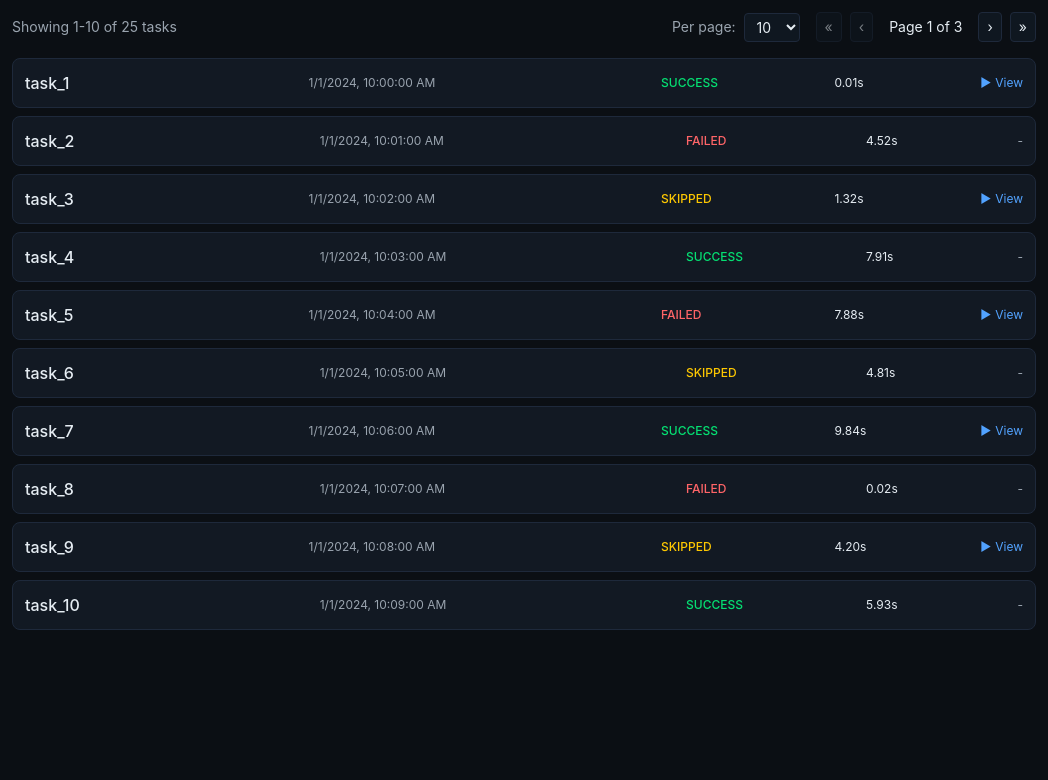
Test: ServiceTasksTable › Bug #75: Pagination functionality › navigates to next page
Note: Click next page button
What coordinates should you click on to do the following:
click the button titled "Next page"
I would click on:
 (990, 27)
Its box is [978,12,1002,42].
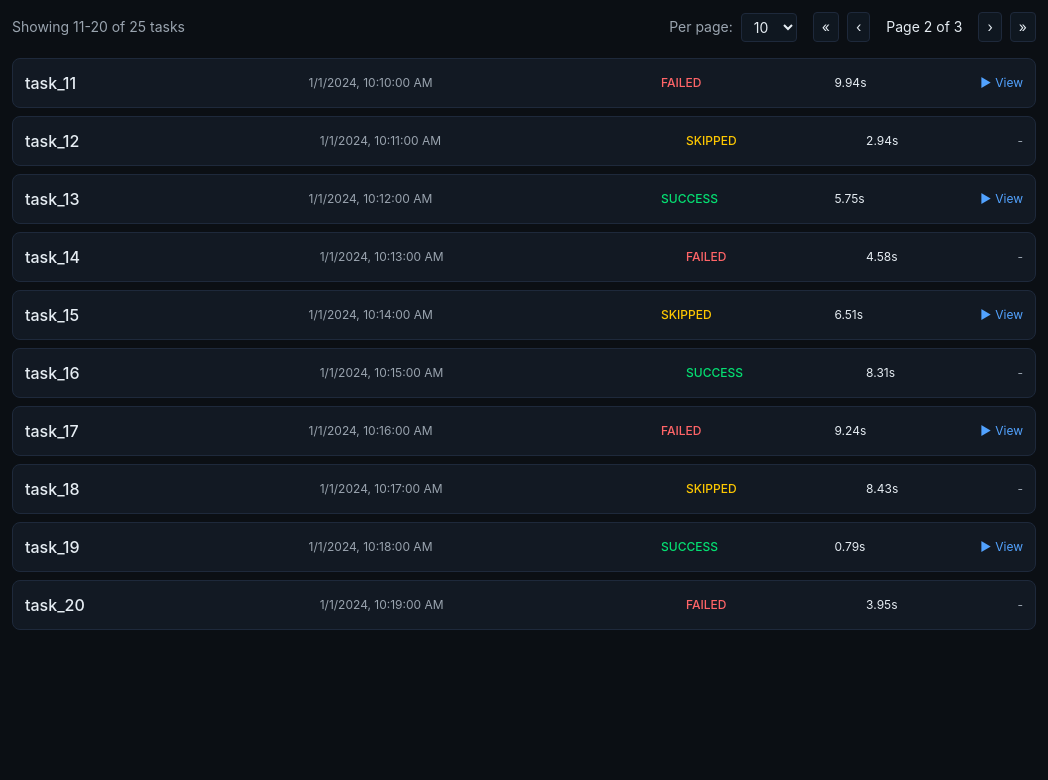
Now the text "Page 2 of 3" is shown, box [886,18,962,35]
Now the text "Showing 11-20 of 25 tasks" is shown, box [12,17,185,37]
Now the text "task_11" is shown, box [25,73,76,93]
